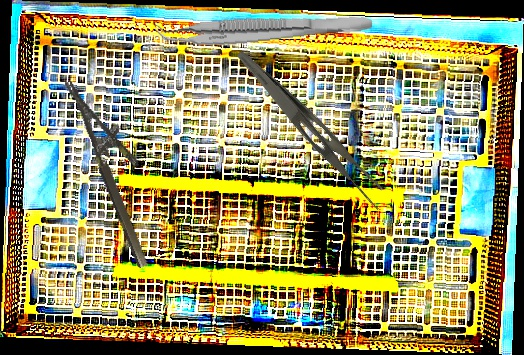Dressing Forceps: (220, 48, 398, 214)
Needle Holder: (64, 68, 174, 270)
Tissue Forceps: (154, 2, 373, 52)
